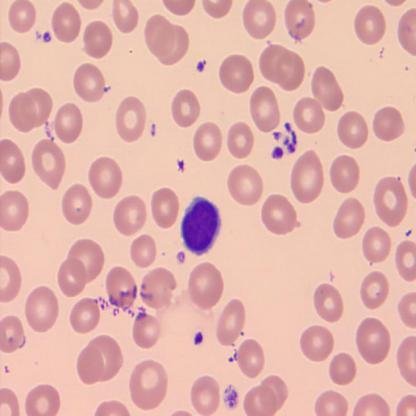Lymphocyte: (180, 195, 222, 256)
